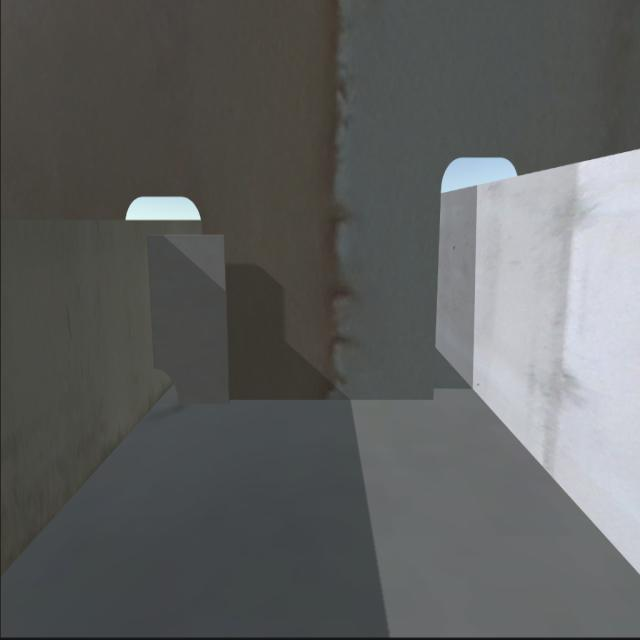fillet_hole: (156, 368, 184, 411)
fillet_yong_jeop_jang: (175, 392, 433, 405)
longi_yong_jeop_jang: (145, 236, 161, 372)
plate_CP01: (146, 234, 232, 408)
